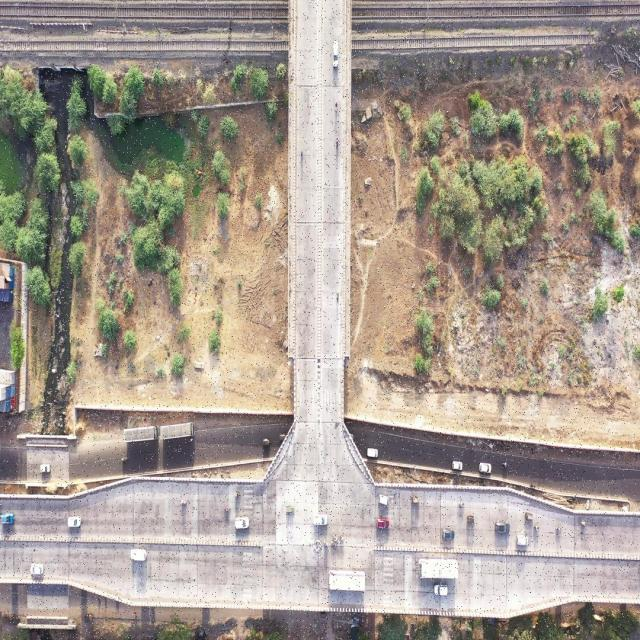3W: (410, 495, 422, 508), (261, 436, 271, 449), (84, 612, 94, 624), (524, 510, 534, 522), (466, 513, 475, 526), (285, 505, 296, 514)
Bus: (326, 568, 368, 593), (418, 556, 458, 581)
Cars: (66, 514, 82, 531), (494, 520, 511, 536), (331, 39, 340, 69), (0, 513, 16, 529), (376, 515, 390, 532), (131, 548, 146, 563), (441, 527, 456, 542), (30, 561, 44, 577), (234, 516, 248, 532), (312, 515, 328, 529), (434, 583, 448, 598), (367, 445, 379, 462), (478, 461, 492, 475), (378, 492, 391, 507), (516, 534, 529, 547), (40, 465, 52, 477), (451, 460, 463, 470)
M2W: (178, 498, 190, 507), (234, 491, 243, 500), (580, 521, 589, 530), (334, 290, 340, 303), (335, 133, 339, 152), (120, 456, 128, 464), (222, 505, 231, 512), (456, 499, 465, 506), (502, 460, 509, 468), (339, 533, 345, 542), (333, 536, 340, 543), (533, 525, 540, 532), (556, 526, 563, 533), (323, 539, 328, 548), (300, 148, 303, 161), (335, 100, 338, 113), (331, 540, 335, 549)
MAV: (123, 423, 158, 442), (161, 422, 196, 441)
